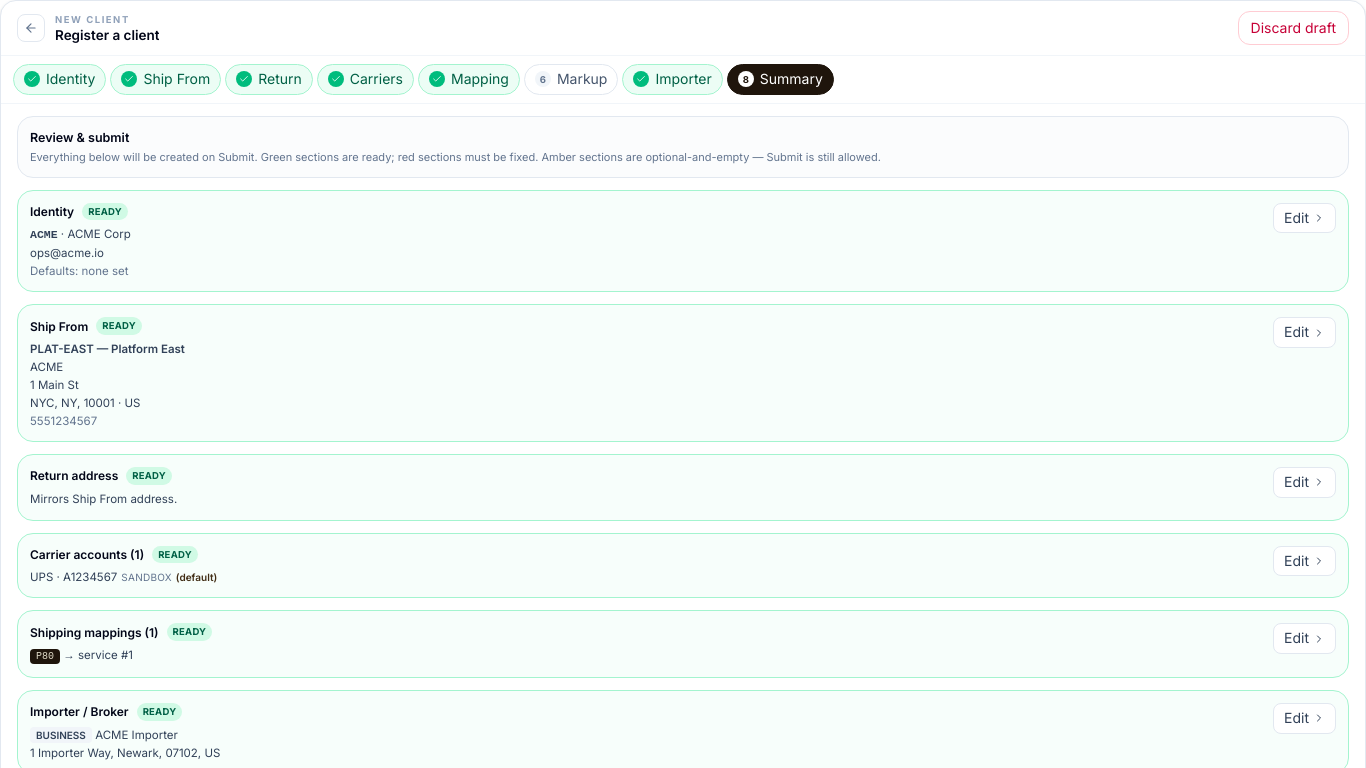
ClientEditorPage — Summary step + Submit cascade (create mode) › clicking a card Edit button jumps back to that step (leaves summary)
Click the button "Edit" in the row of "ACME Corp" at (1304,218), box [1273, 203, 1336, 233]
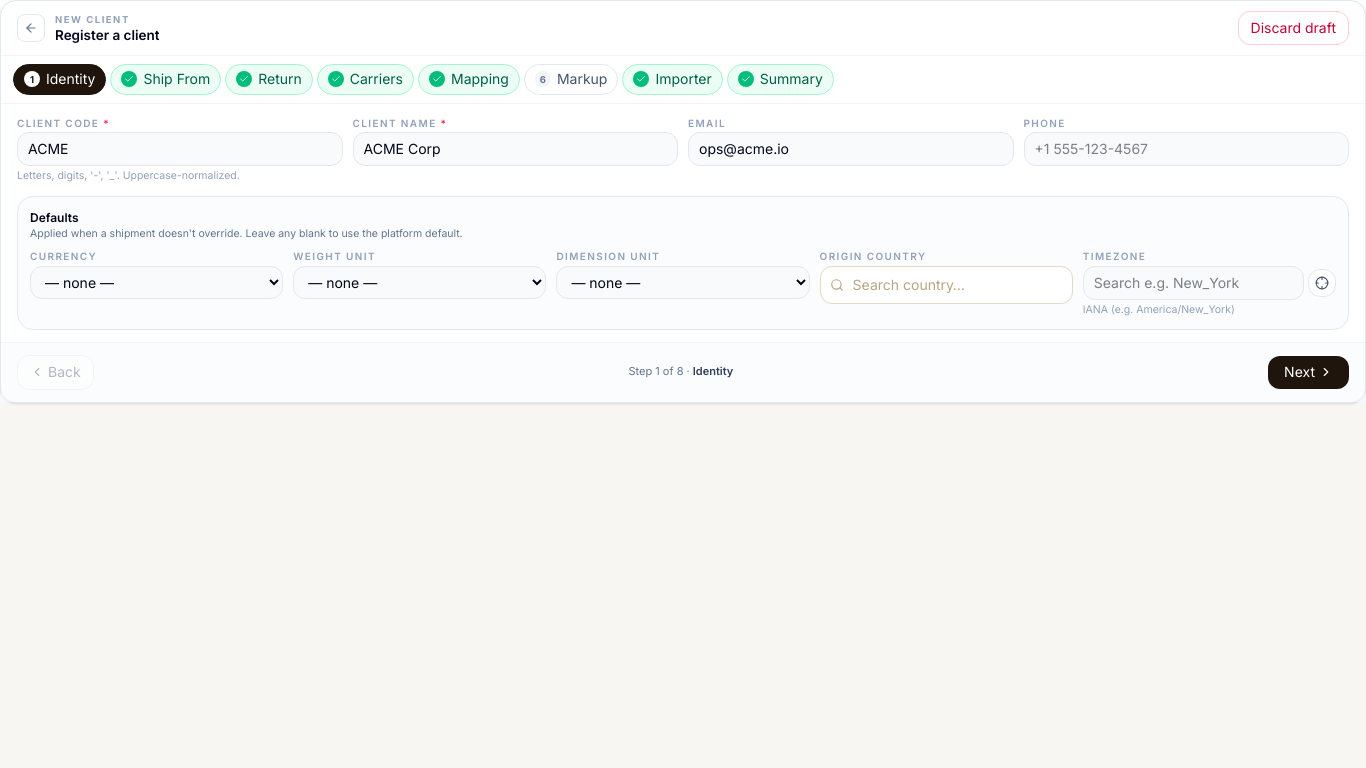
Expected: the text "Review & submit" is gone
Expected: the field with placeholder "MA1885" holds "ACME", [17, 132, 342, 166]
